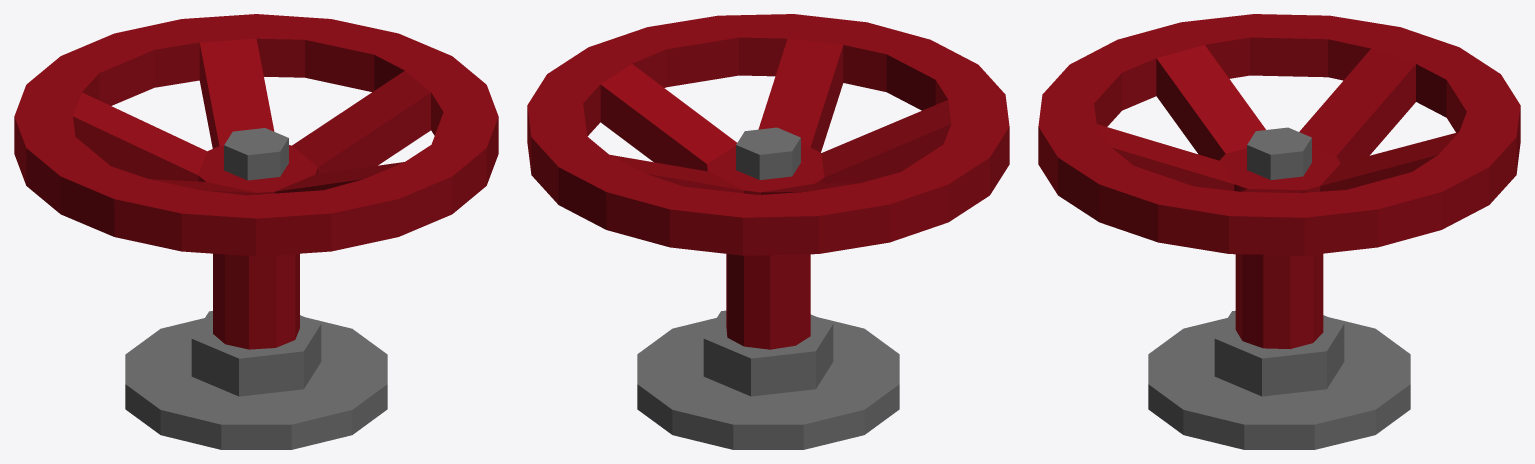
Rendered from Valve.fbx.
3 views of the same model, side by side, from view 1: azimuth 30°, elevation 25°; view 2: azimuth 150°, elevation 25°; view 3: azimuth 270°, elevation 25° (orthographic).
Parts seen in each view (by area): view 1: Cistern Valve.001; view 2: Cistern Valve.001; view 3: Cistern Valve.001.
Boxes of the visible parts, bbox=[...] form: Cistern Valve.001: bbox=[14, 14, 498, 449]; Cistern Valve.001: bbox=[527, 14, 1009, 449]; Cistern Valve.001: bbox=[1038, 14, 1520, 449].
Bounding box in the file's own units: 0.5243 × 0.5243 × 0.3344.
